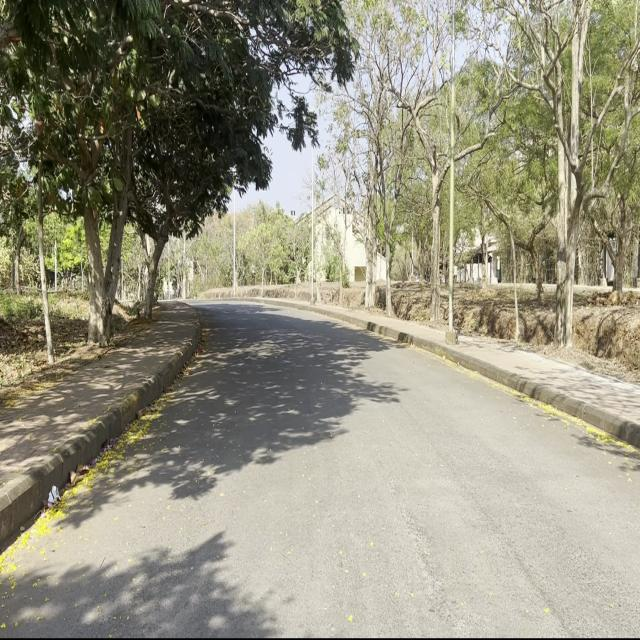Road: (5, 299, 635, 637)
